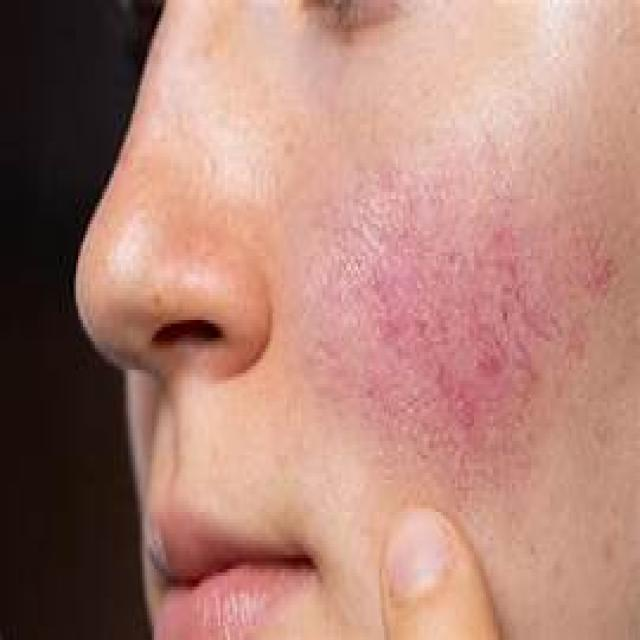Rosacea: (345, 232, 549, 462)
